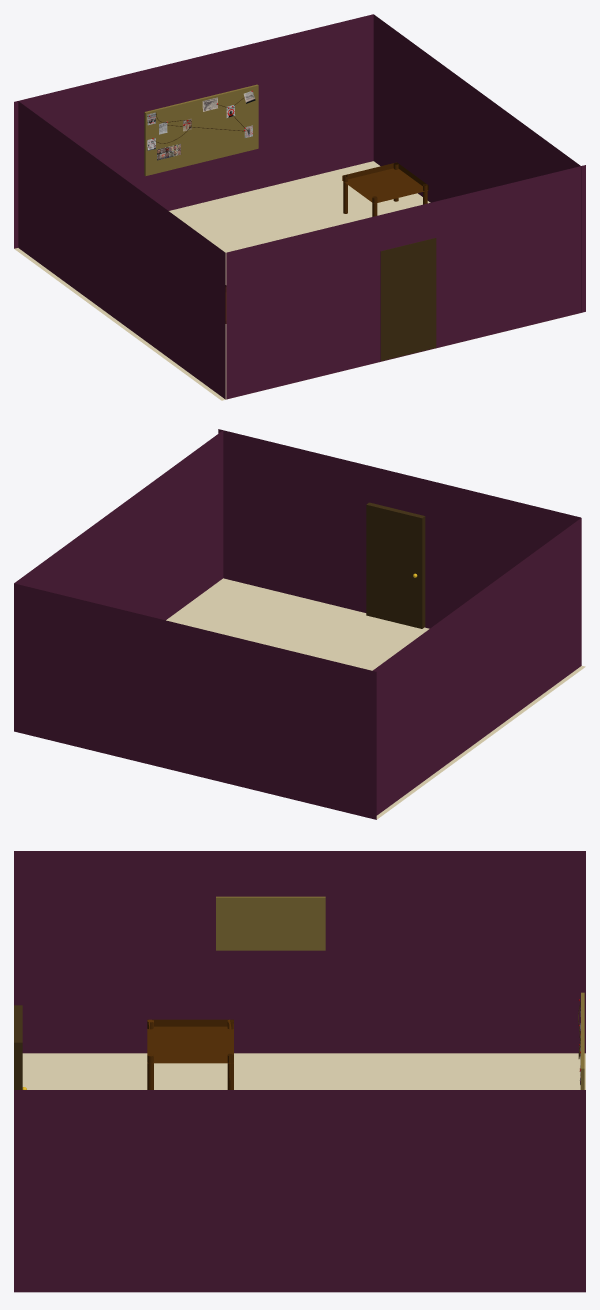
Rendered from room2.fbx.
3 views of the same model, one above another, from view 1: azimuth 30°, elevation 25°; view 2: azimuth 150°, elevation 25°; view 3: azimuth 270°, elevation 25° (orthographic). The views are drawn at different scales.
Parts seen in each view (by area): view 1: Plane.002, Plane.001, Plane.003, Plane.004, Plane, Plane.006, Plane.016, Cylinder.001; view 2: Plane.001, Plane.002, Plane.003, Plane.004, Plane, Plane.016; view 3: Plane.004, Plane.003, Plane, Plane.005, Cylinder.002, Plane.016.
Boxes of the visible parts, x1,y1,x2,y2 form: Plane.002: (226,165,585,399); Plane.001: (14,14,373,248); Plane.003: (18,101,225,399); Plane.004: (373,14,581,312); Plane: (14,161,573,400); Plane.006: (144,84,258,175); Plane.016: (380,238,436,360); Cylinder.001: (342,162,428,216); Plane.001: (14,583,376,819); Plane.002: (218,429,580,628); Plane.003: (372,518,581,815); Plane.004: (14,430,223,620); Plane: (166,578,585,819); Plane.016: (366,502,425,628); Plane.004: (14,1090,585,1292); Plane.003: (14,851,585,1053); Plane: (22,1053,585,1089); Plane.005: (216,896,325,950); Cylinder.002: (147,1019,233,1089); Plane.016: (14,1005,22,1089).
Size of the model in its own units: 1762 by 790 by 1739.
16 materials, 9 textured.
